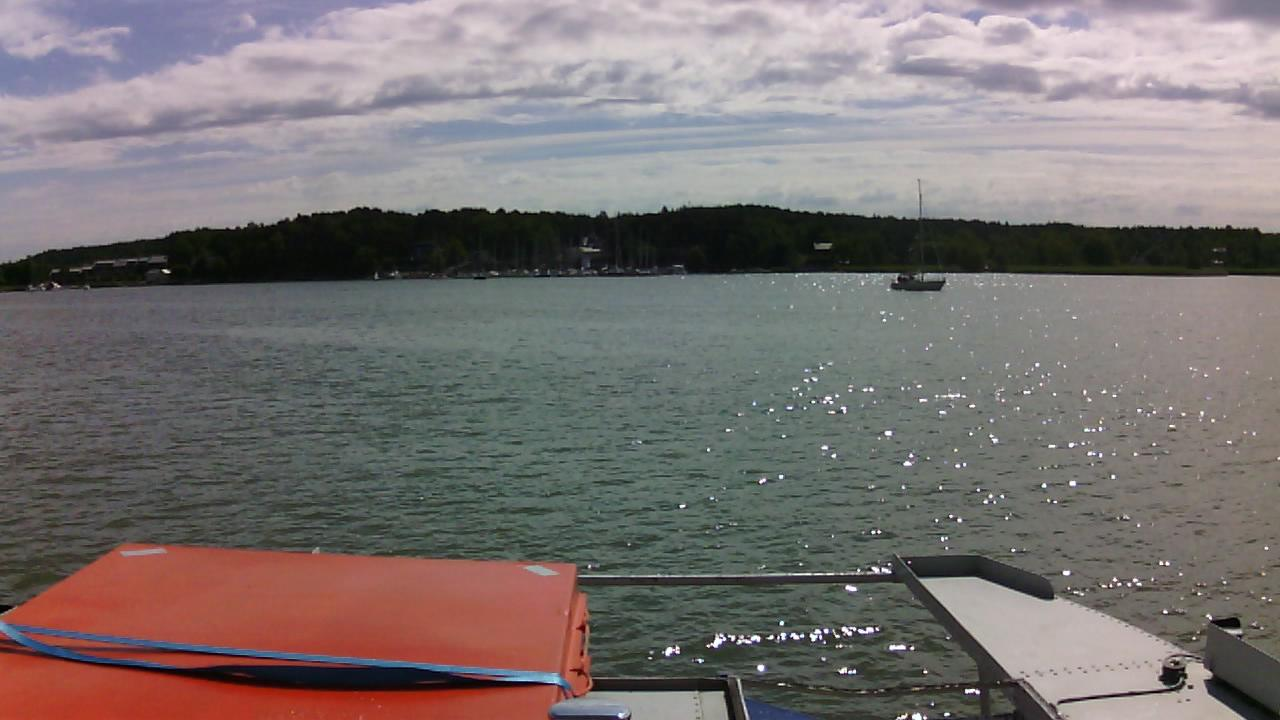Ship: (886, 175, 948, 295)
